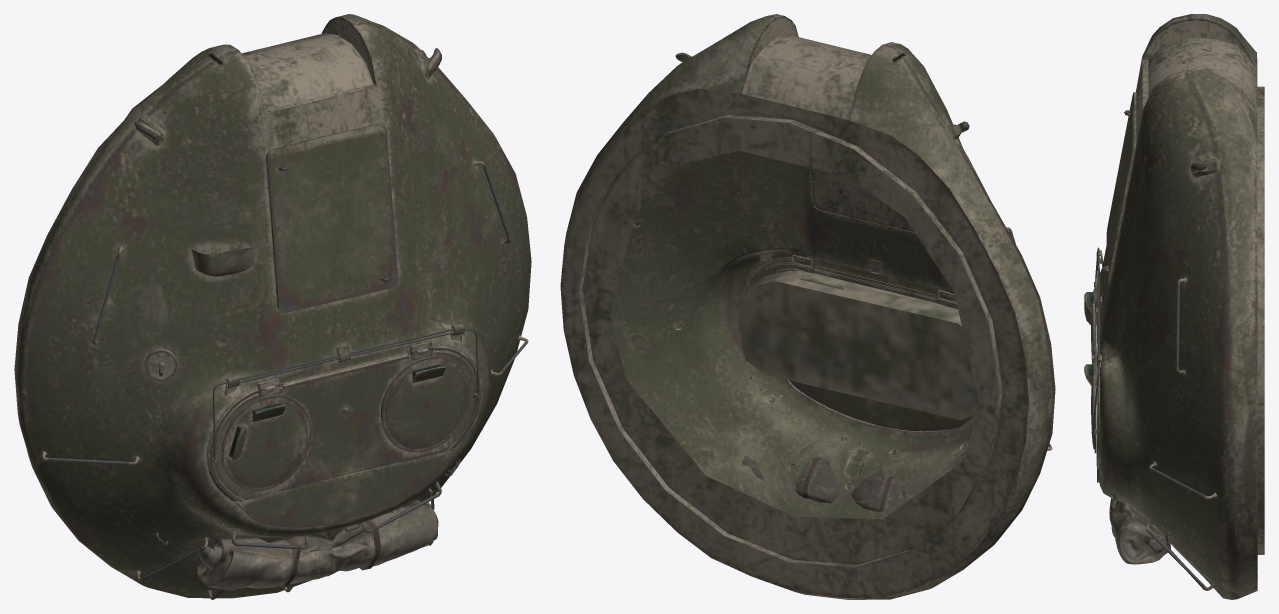
Rendered from Turret_01.glb.
The picture shows the model from 3 angles, left to right: view 1: azimuth 30°, elevation 25°; view 2: azimuth 150°, elevation 25°; view 3: azimuth 270°, elevation 25°; orthographic projection. The views are drawn at different scales.
Visible parts, largest first — view 1: set_0_group_0; view 2: set_0_group_0; view 3: set_0_group_0.
Boxes of the visible parts, <box> form: set_0_group_0: <box>14,14,531,599</box>; set_0_group_0: <box>560,14,1055,599</box>; set_0_group_0: <box>1084,14,1264,599</box>.
Bounding box in the file's own units: 2.86 × 3.05 × 0.9398.
1 material, 1 textured.
